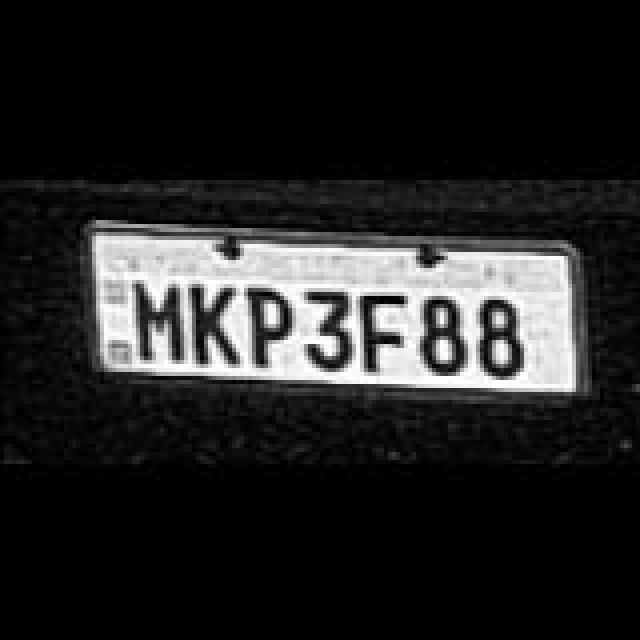3: (306, 286, 354, 370)
8: (418, 292, 466, 372), (478, 296, 526, 376)
F: (360, 290, 412, 374)
K: (186, 278, 234, 362)
M: (138, 278, 186, 362)
P: (252, 284, 296, 364)
